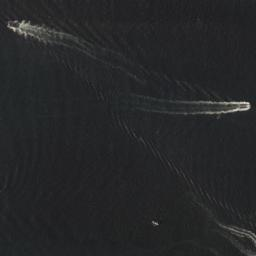boat: (4, 22, 18, 28), (243, 103, 252, 107), (152, 220, 158, 224)
